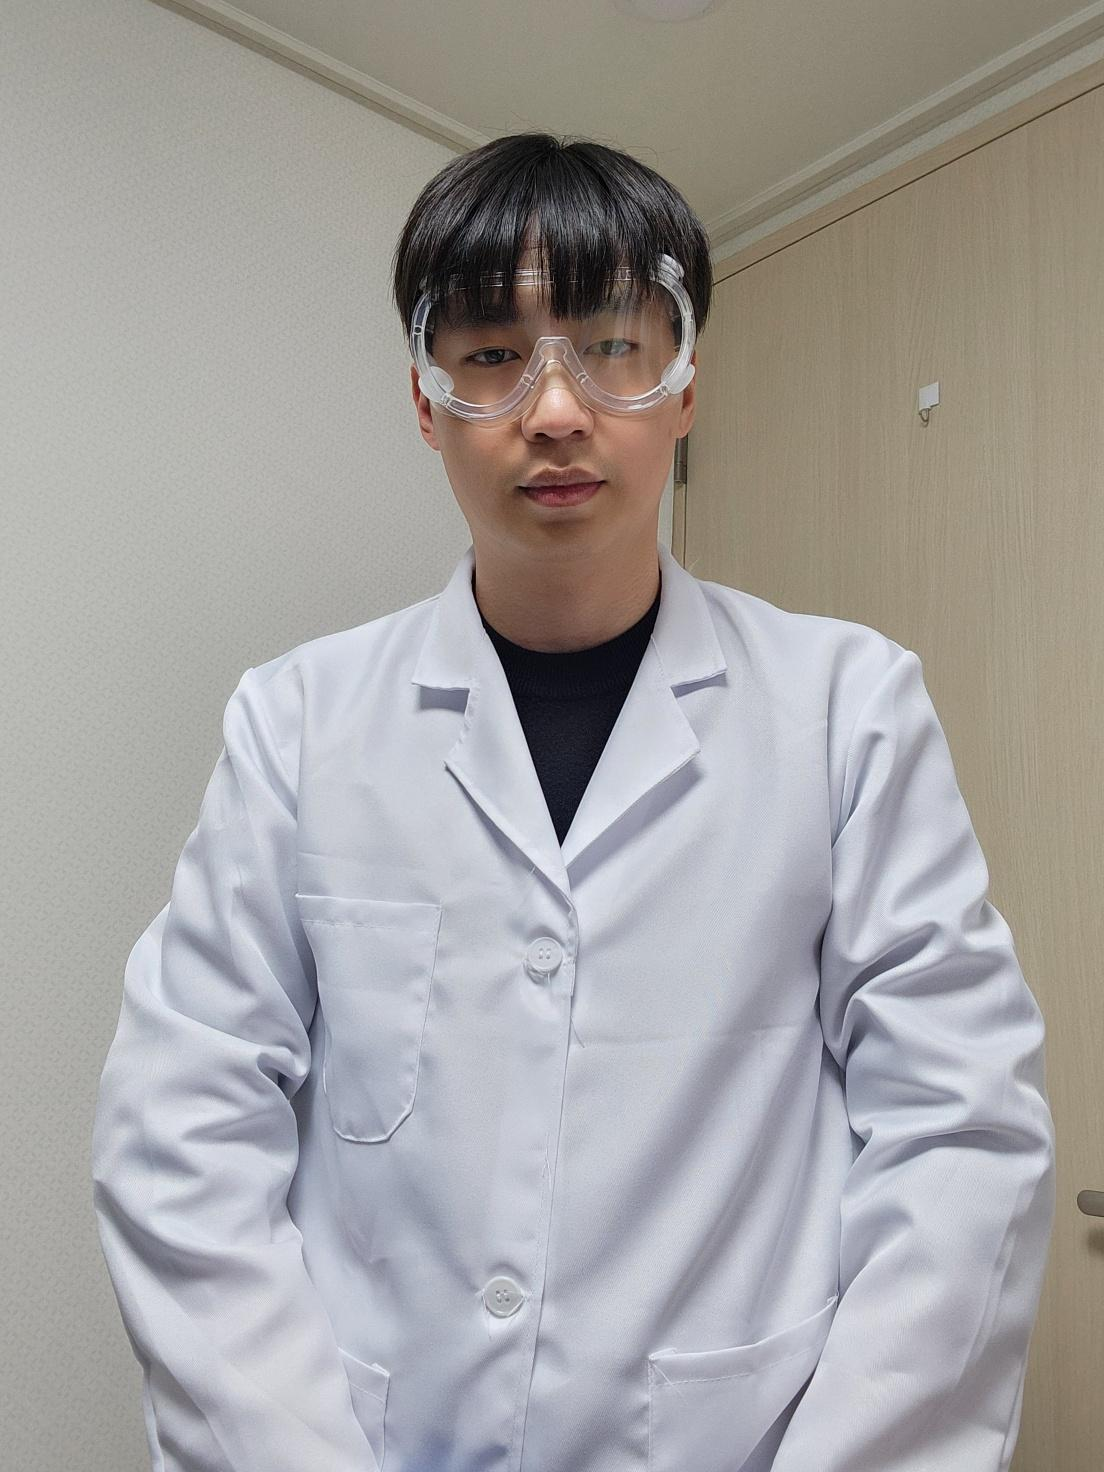lab_coat: (95, 552, 1052, 1471)
